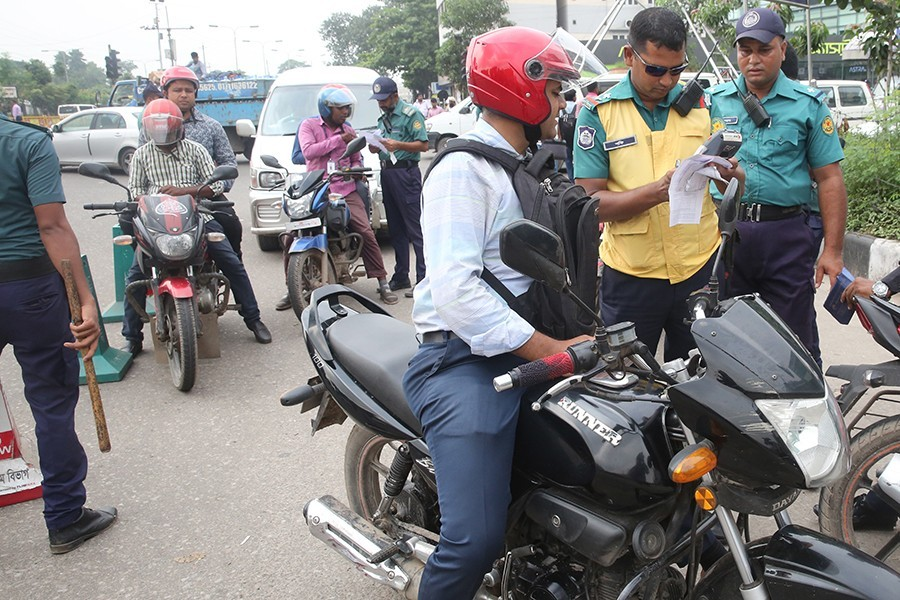helmet: (460, 22, 605, 142), (132, 97, 193, 156), (313, 81, 360, 134)
